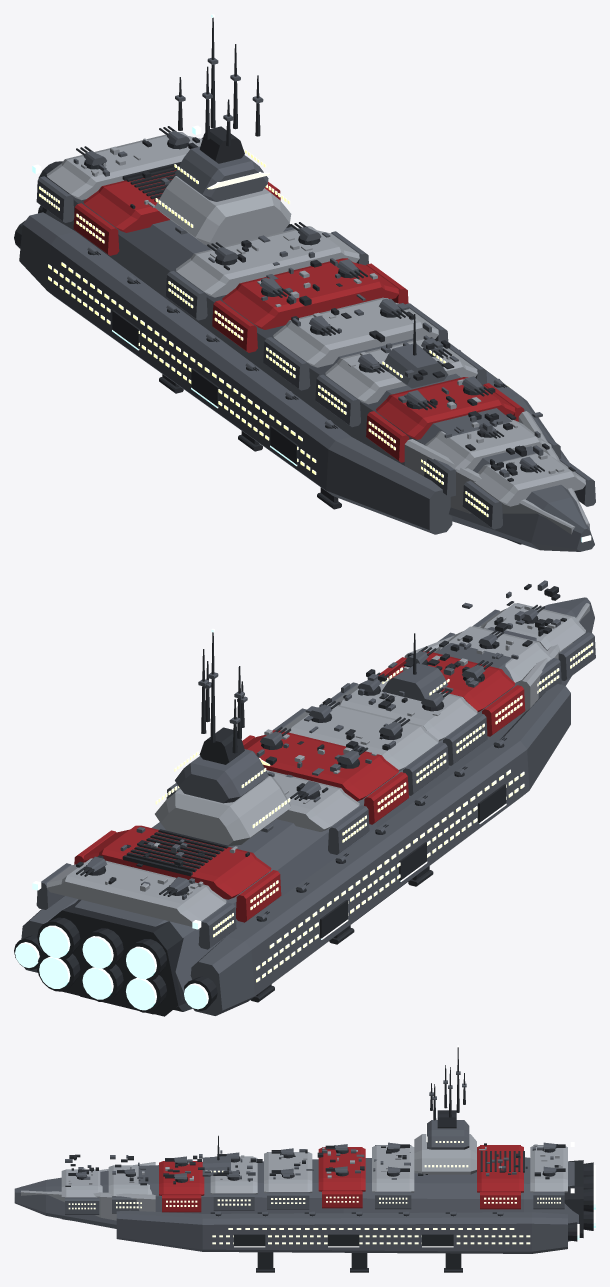
Rendered from dreadnought.glb.
The picture shows the model from 3 angles, top to bottom: view 1: azimuth 30°, elevation 25°; view 2: azimuth 150°, elevation 25°; view 3: azimuth 270°, elevation 25°; orthographic projection. The views are drawn at different scales.
Visible parts, largest first — view 1: hull_dreadnought; view 2: hull_dreadnought; view 3: hull_dreadnought.
Boxes of the visible parts, <box> form: hull_dreadnought: <box>14,14,595,551</box>; hull_dreadnought: <box>14,580,595,1016</box>; hull_dreadnought: <box>14,1045,595,1272</box>.
Bounding box in the file's own units: 184 × 300 × 743.
